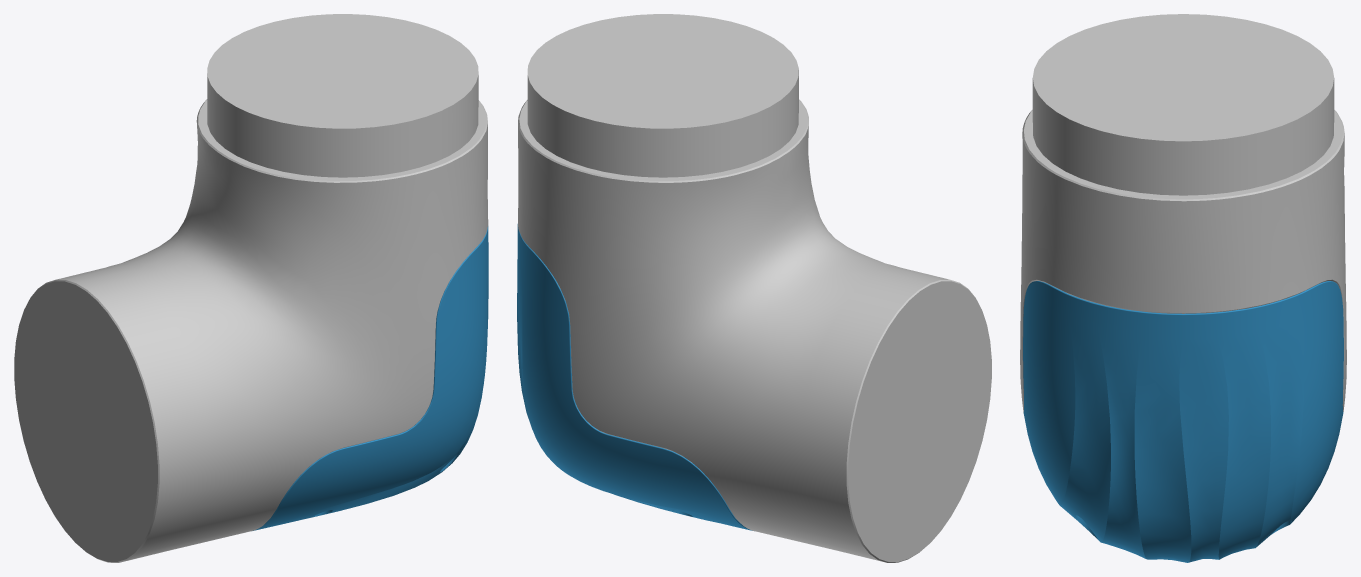
Rendered from NOVA2_J4_ASM.gltf.
The picture shows the model from 3 angles, left to right: view 1: azimuth 30°, elevation 25°; view 2: azimuth 150°, elevation 25°; view 3: azimuth 270°, elevation 25°; orthographic projection. The views are drawn at different scales.
Parts seen in each view (by area): view 1: J4-PART2; view 2: J4-PART2; view 3: J4-PART2.
Boxes of the visible parts, x1,y1,x2,y2 form: J4-PART2: (14, 14, 488, 562); J4-PART2: (517, 14, 991, 562); J4-PART2: (1020, 14, 1346, 562).
Bounding box in the file's own units: 0.1065 × 0.1115 × 0.071.
